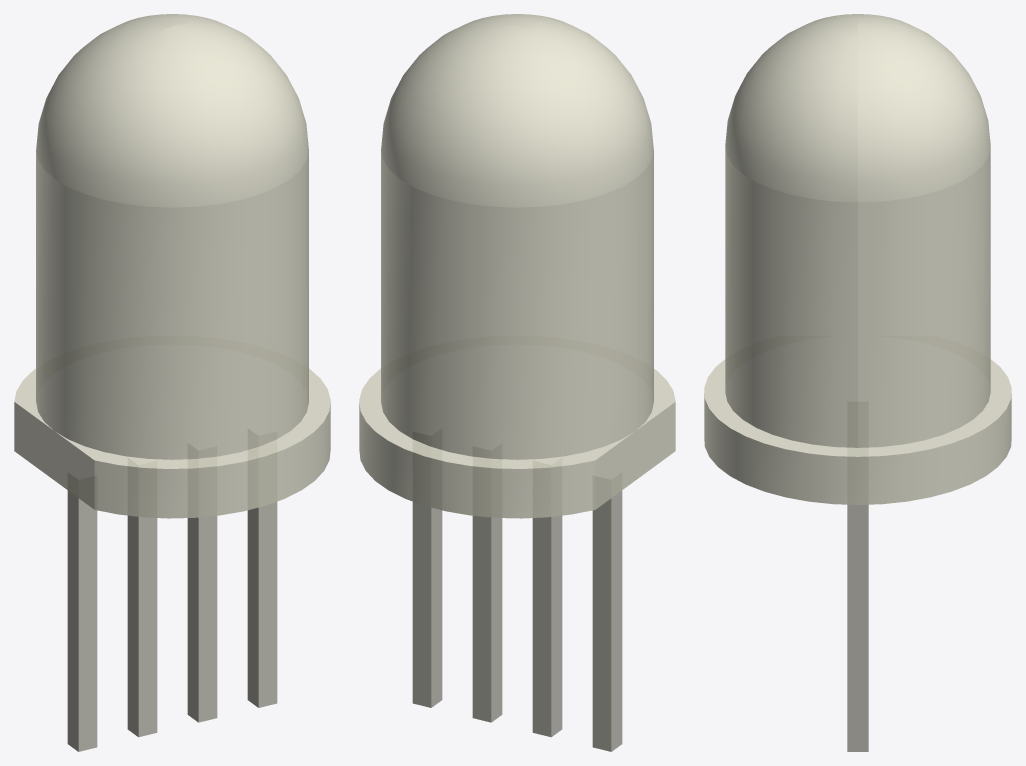
Rendered from led-5mm-rgb.glb.
3 renders of one model, left to right at view 1: azimuth 30°, elevation 25°; view 2: azimuth 150°, elevation 25°; view 3: azimuth 270°, elevation 25°, orthographic. The views are drawn at different scales.
Visible parts, largest first — view 1: led-5mm-rgb; view 2: led-5mm-rgb; view 3: led-5mm-rgb.
Boxes of the visible parts, x1,y1,x2,y2 form: led-5mm-rgb: [14, 14, 330, 751]; led-5mm-rgb: [359, 14, 675, 751]; led-5mm-rgb: [704, 14, 1011, 751].
Bounding box in the file's own units: 5.4 × 14.1 × 5.79.
